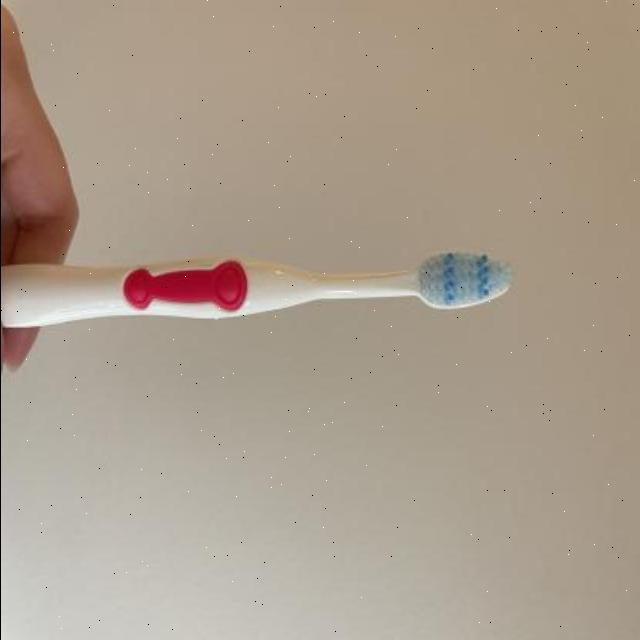toothbrush: (0, 240, 524, 330)
